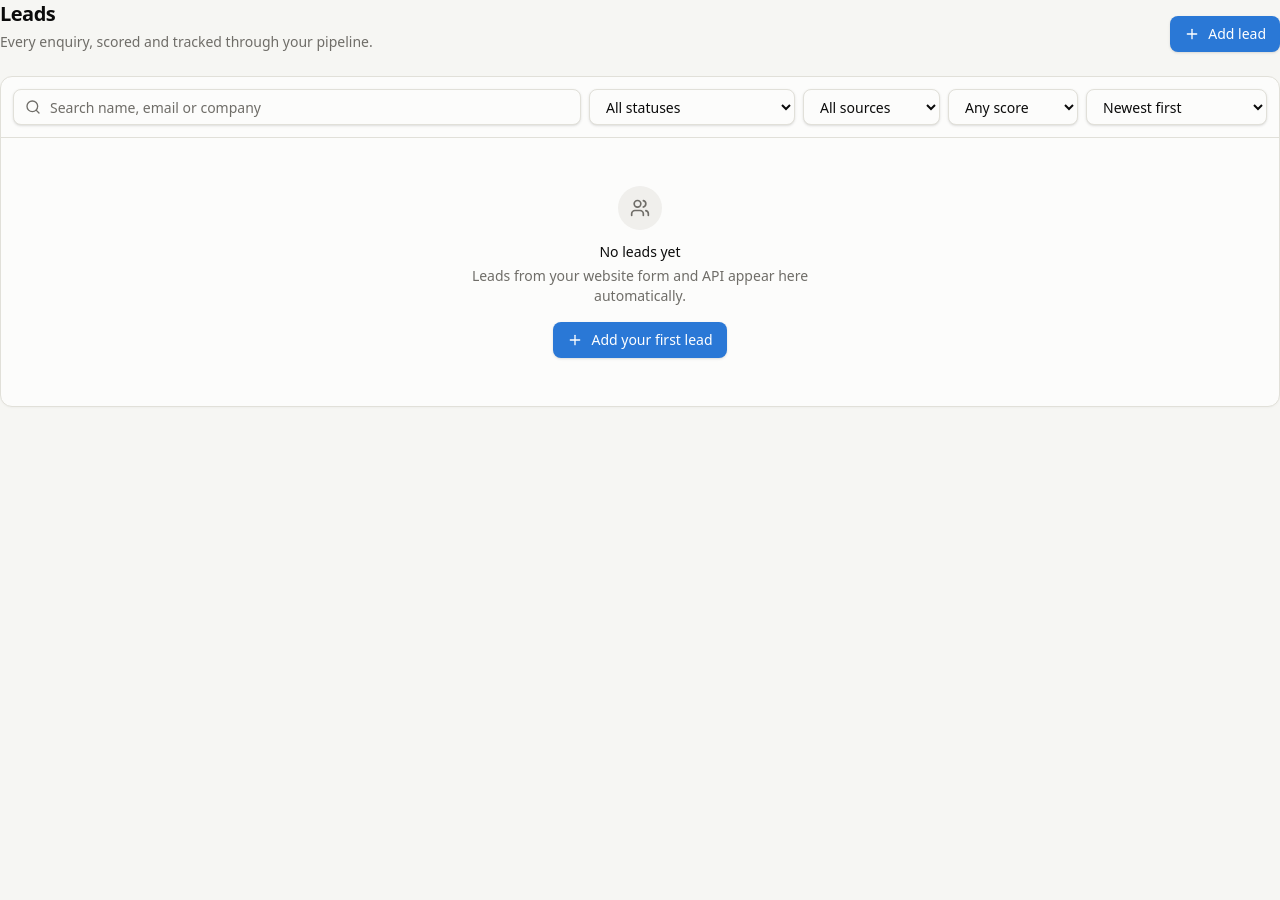
Leads › shows field errors from the API when adding a lead
Click the button "Add lead". click: click(1225, 34)
box: [1170, 16, 1279, 52]
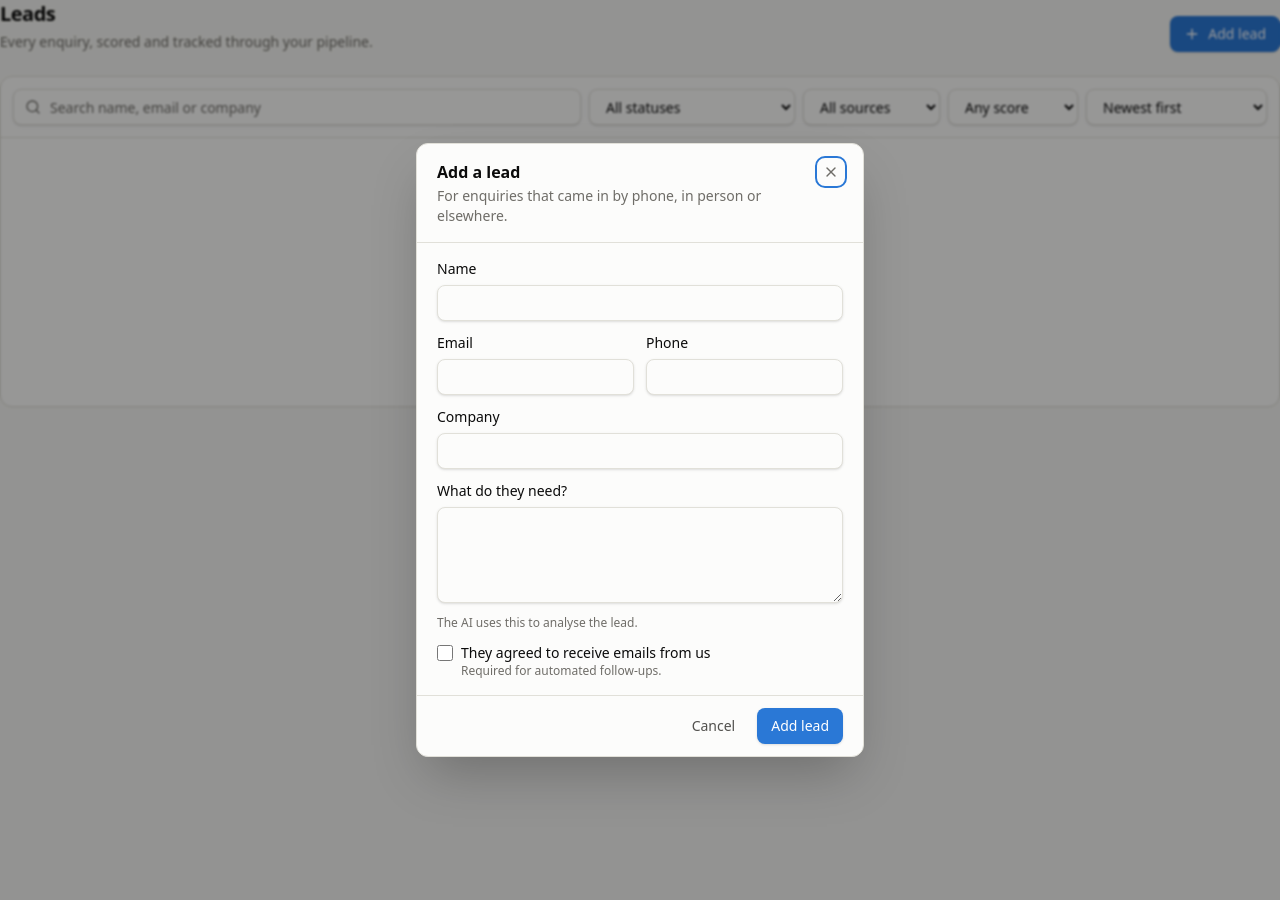
Type "Sam" into the field labelled "Name". click: (640, 303)
box: [437, 285, 843, 321]
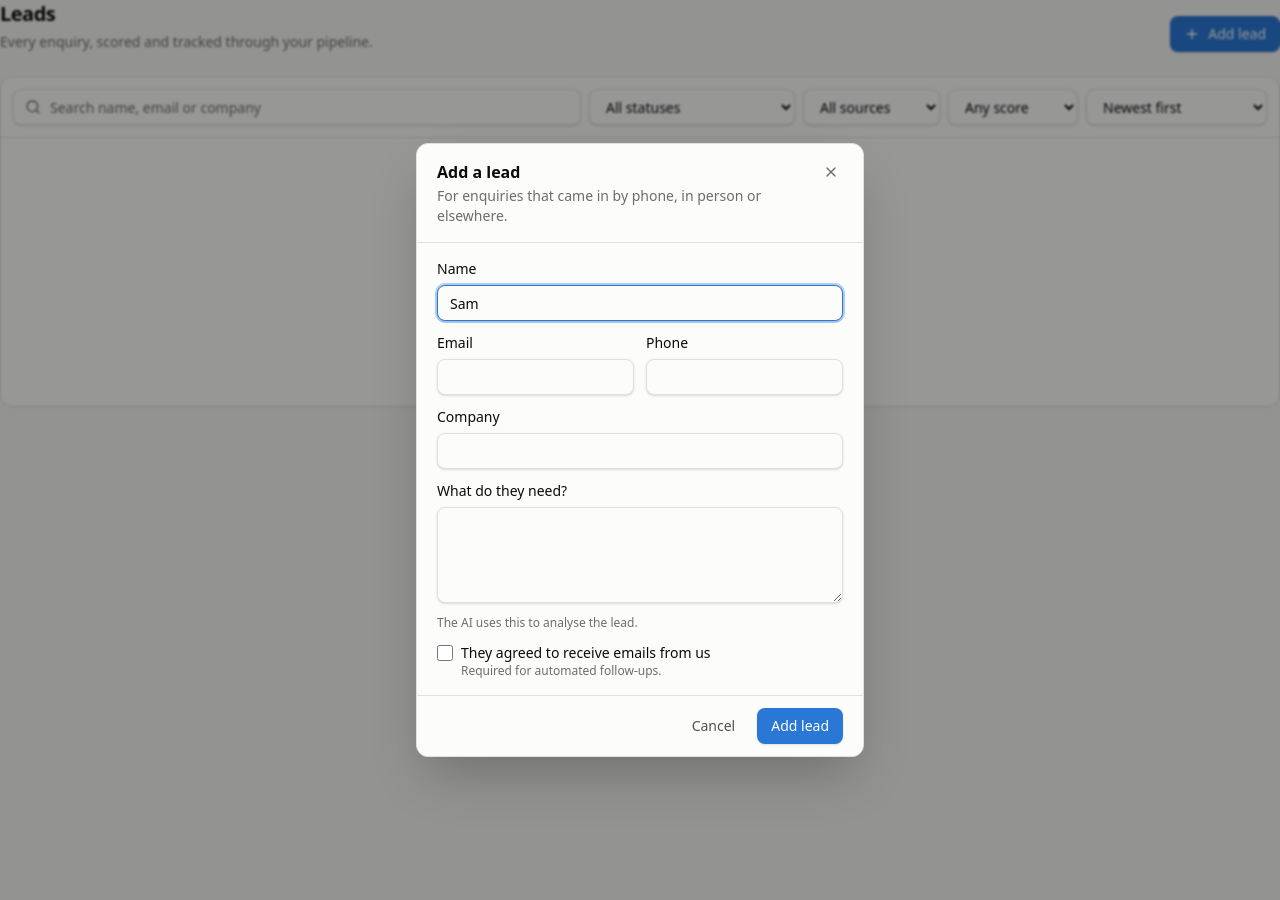
Click the button "Add lead". click: click(800, 726)
box: [757, 708, 843, 744]
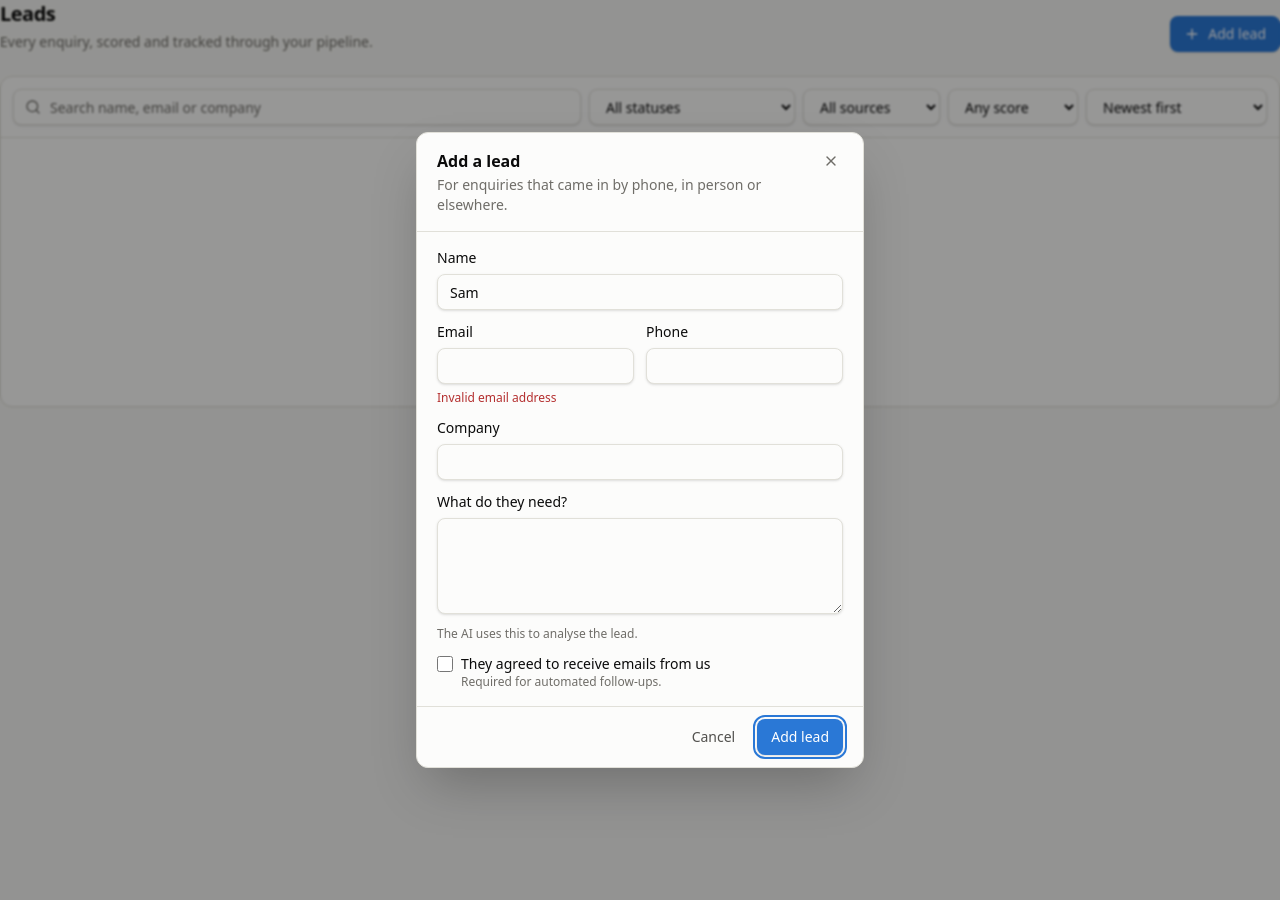
Now the text "Invalid email address" is shown, box [437, 389, 556, 406]
